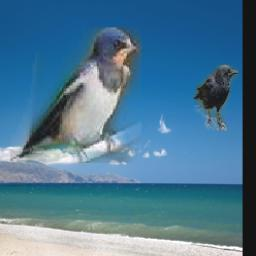Crow: (195, 66, 239, 132)
Swallow: (11, 27, 142, 163)
